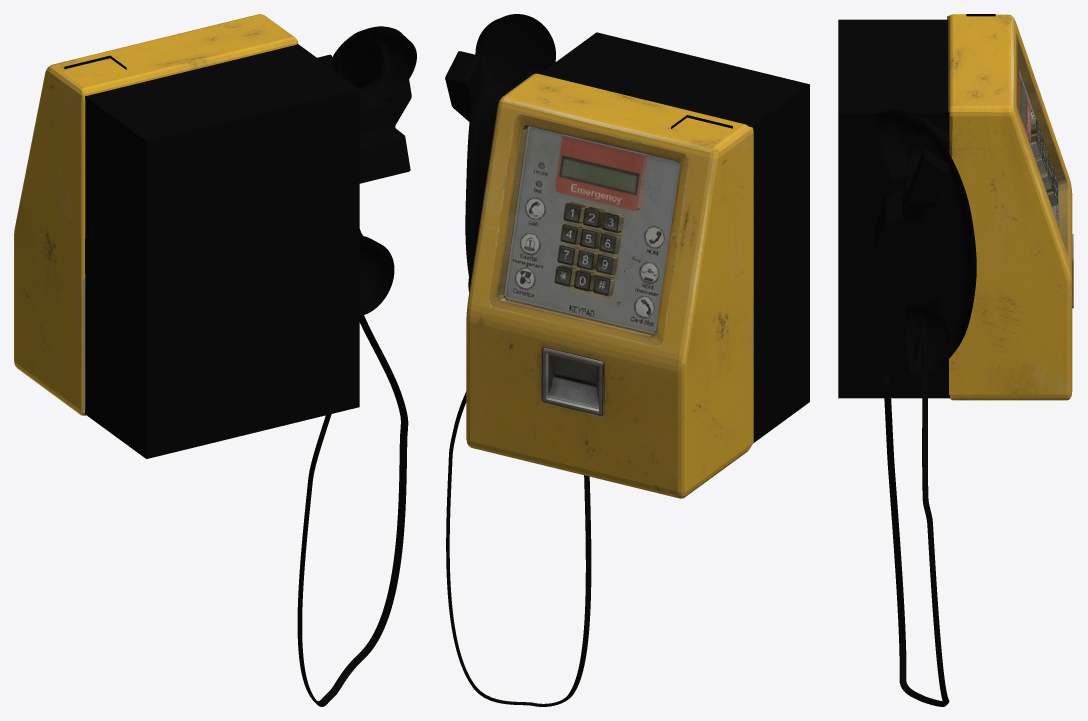
The model's file is coinbox.glb.
3 views of the same model, side by side, from view 1: azimuth 30°, elevation 25°; view 2: azimuth 150°, elevation 25°; view 3: azimuth 270°, elevation 25° (orthographic). The views are drawn at different scales.
Parts seen in each view (by area): view 1: BezierCurve; view 2: BezierCurve; view 3: BezierCurve.
Boxes of the visible parts, <box> form: BezierCurve: <box>14,14,416,706</box>; BezierCurve: <box>445,14,809,706</box>; BezierCurve: <box>838,14,1073,706</box>.
Bounding box in the file's own units: 2.87 × 5.83 × 2.06.
Materials: 5 (1 with a texture image).
